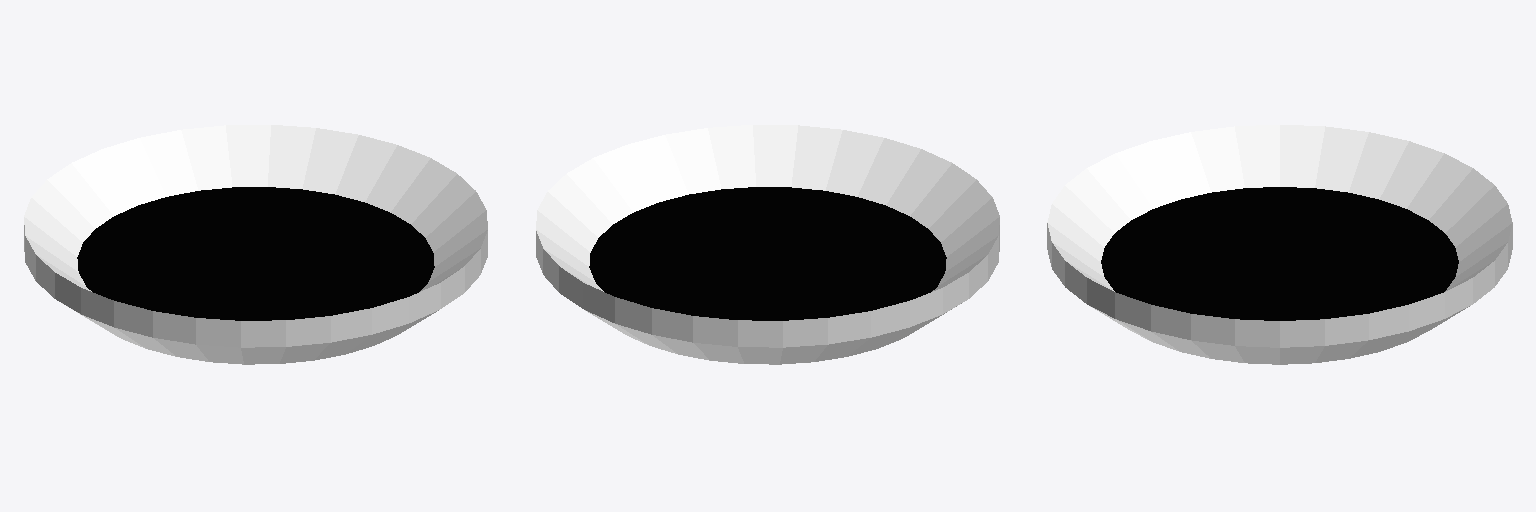
The model's file is bord.obj.
3 views of the same model, side by side, from view 1: azimuth 30°, elevation 25°; view 2: azimuth 150°, elevation 25°; view 3: azimuth 270°, elevation 25° (orthographic).
Visible parts, largest first — view 1: Cylinder; view 2: Cylinder; view 3: Cylinder.
Boxes of the visible parts, x1,y1,x2,y2 form: Cylinder: [24, 125, 487, 364]; Cylinder: [536, 125, 999, 364]; Cylinder: [1047, 125, 1512, 364].
Bounding box in the file's own units: 4 × 0.6294 × 4.